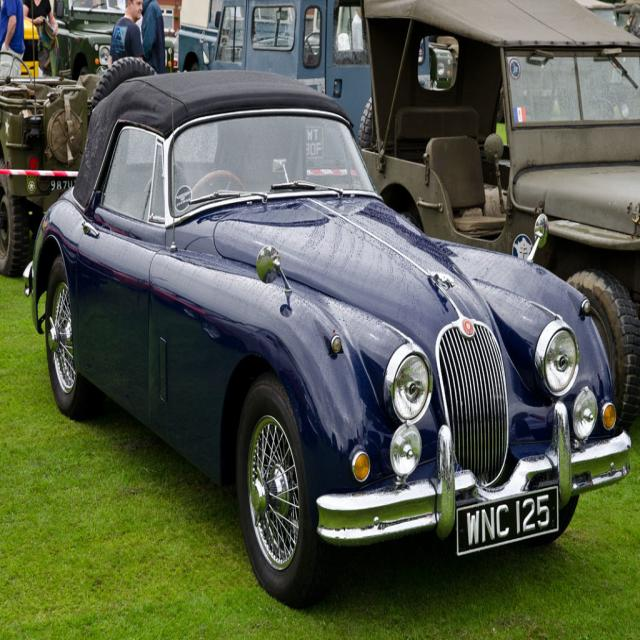car: (26, 68, 630, 607)
